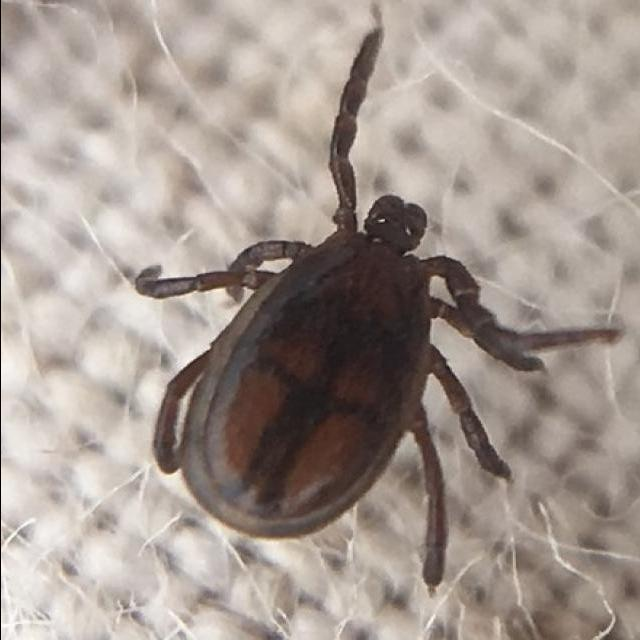Ixodes Ricinus-M: (131, 25, 623, 590)
